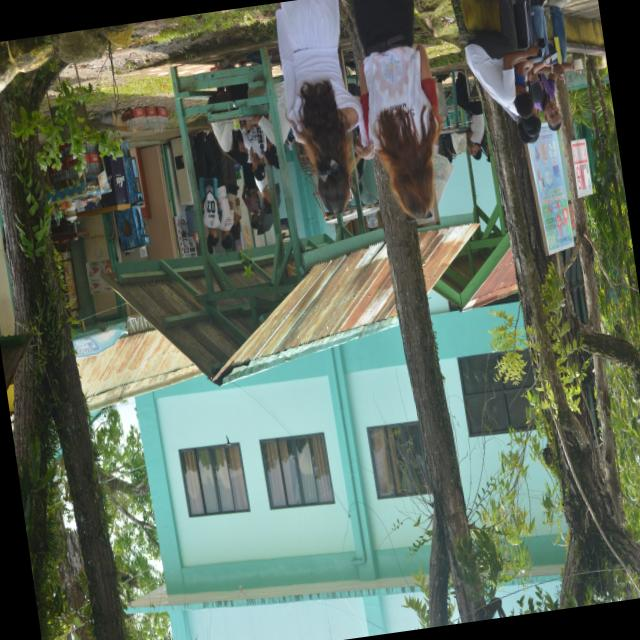person: (275, 0, 372, 213), (351, 0, 439, 218), (465, 0, 537, 118), (529, 0, 573, 130), (193, 130, 221, 244), (207, 133, 233, 248), (455, 70, 484, 159), (244, 113, 278, 167), (221, 156, 241, 239), (210, 120, 246, 164), (241, 164, 260, 228)
